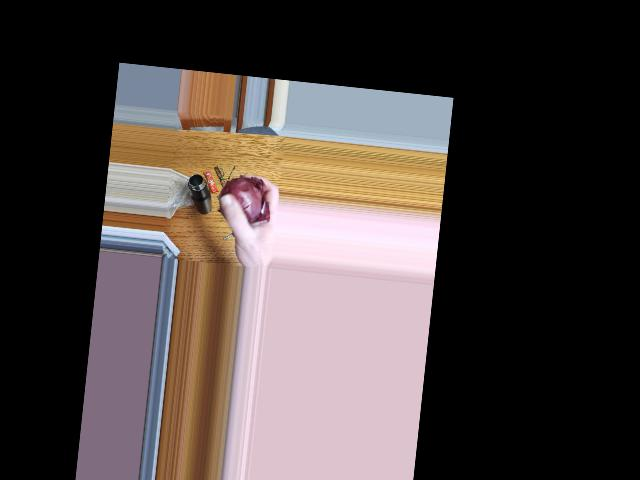onion: (223, 178, 268, 228)
